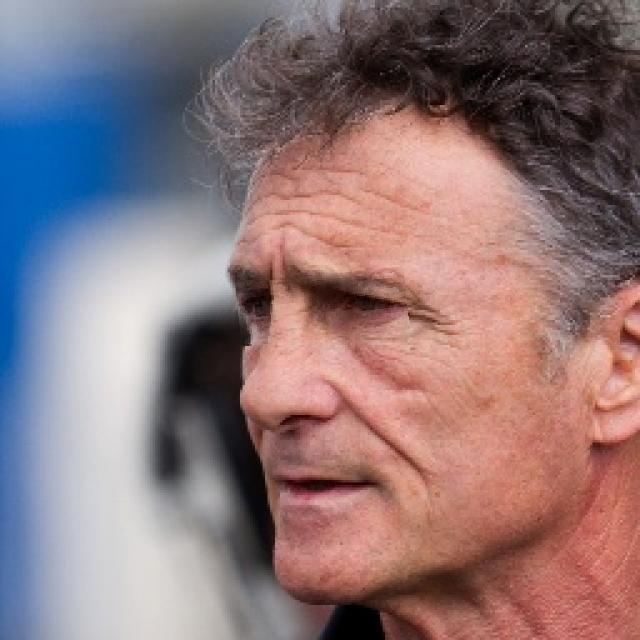no-glasses: (237, 271, 408, 342)
